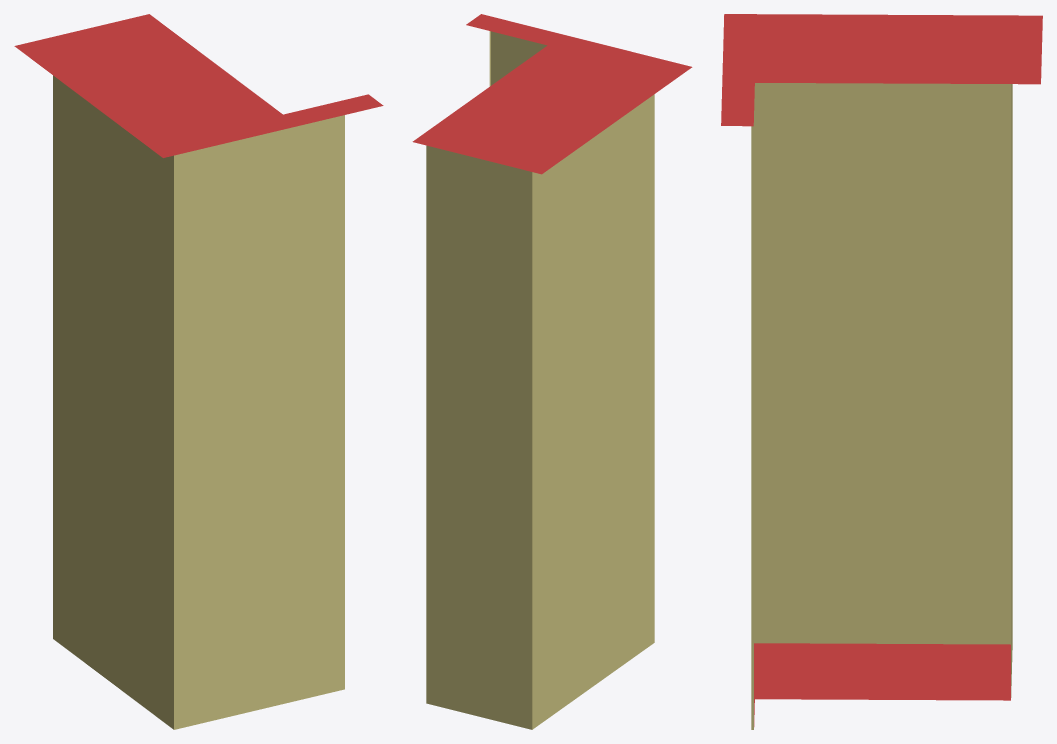
3 renders of one model, left to right at view 1: azimuth 30°, elevation 25°; view 2: azimuth 150°, elevation 25°; view 3: azimuth 270°, elevation 25°, orthographic. The views are drawn at different scales.
Parts seen in each view (by area): view 1: group_5, group_3, group_4; view 2: group_5, group_3, group_4; view 3: group_5, group_3, group_6, group_4.
Part boxes in pixels (left/top/right/bottom): group_5: left=53, top=75, right=344, bottom=729; group_3: left=14, top=14, right=383, bottom=157; group_4: left=20, top=15, right=379, bottom=154; group_5: left=426, top=31, right=654, bottom=729; group_3: left=412, top=14, right=692, bottom=174; group_4: left=415, top=15, right=685, bottom=173; group_5: left=751, top=83, right=1012, bottom=729; group_3: left=721, top=14, right=1042, bottom=126; group_6: left=754, top=643, right=1010, bottom=726; group_4: left=721, top=17, right=1042, bottom=124.
Size of the model in its own units: 4.44 by 5.38 by 11.37.
